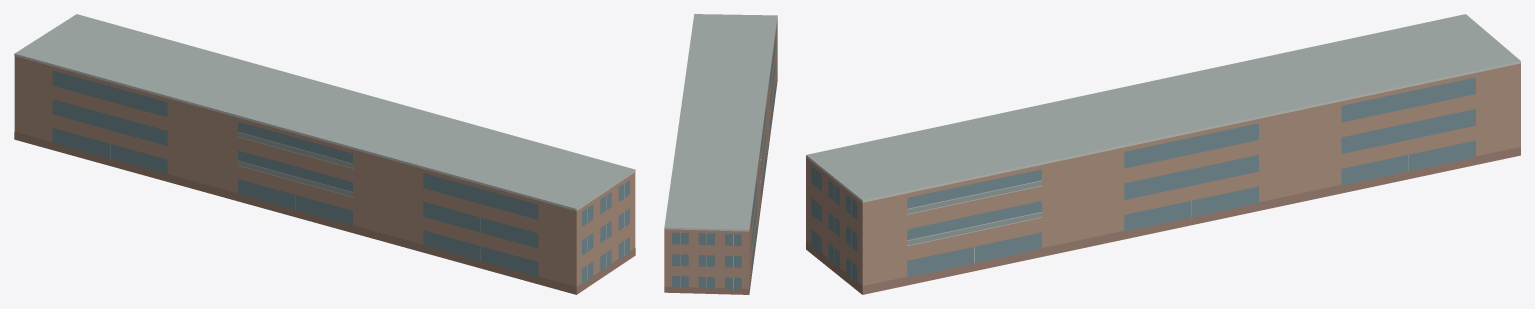
The model's file is survey-upis-32602874.glb.
3 renders of one model, left to right at view 1: azimuth 30°, elevation 25°; view 2: azimuth 150°, elevation 25°; view 3: azimuth 270°, elevation 25°, orthographic. The views are drawn at different scales.
Visible parts, largest first — view 1: survey-upis-32602874.tmp; view 2: survey-upis-32602874.tmp; view 3: survey-upis-32602874.tmp.
Boxes of the visible parts, x1,y1,x2,y2 form: survey-upis-32602874.tmp: [14, 14, 635, 294]; survey-upis-32602874.tmp: [664, 14, 777, 294]; survey-upis-32602874.tmp: [806, 14, 1520, 294].
Bounding box in the file's own units: 38.64 × 9.15 × 62.64.
